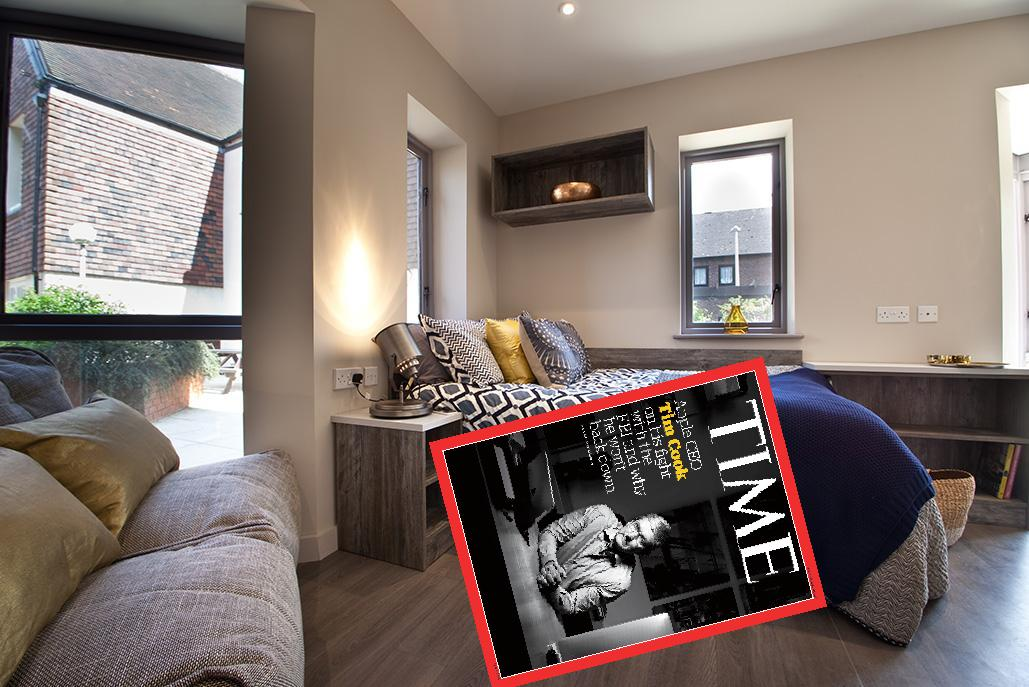times: (426, 350, 831, 687)
